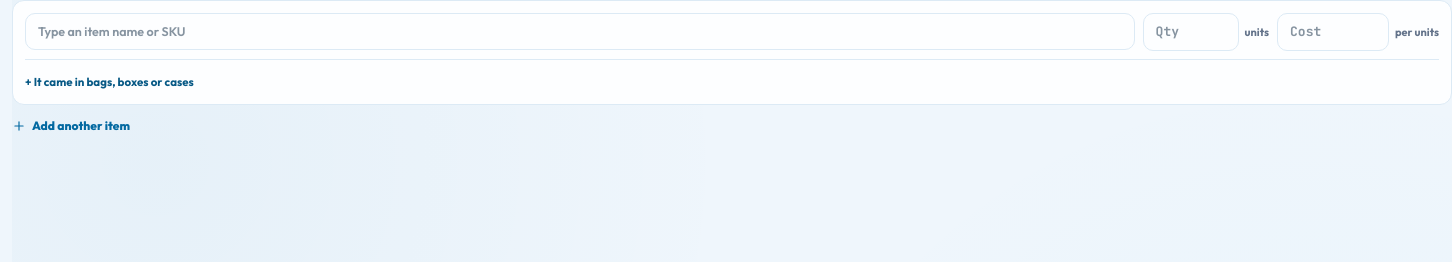
the rows themselves › removes a row once there is more than one
What coordinates should you click on to do the following:
click the button "Add another item"
I would click on:
 (71, 126)
Its box is [12,118,130,134].
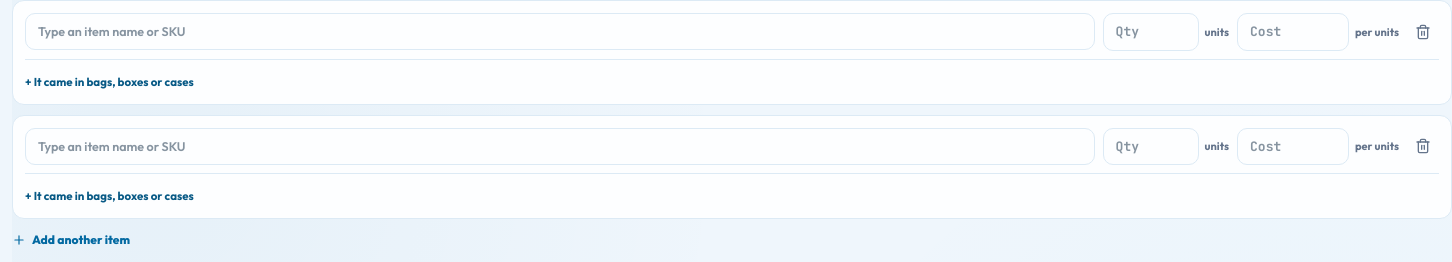
What coordinates should you click on to do the following:
click the 1st button named "Remove item"
I would click on:
 (1423, 32)
Its box is [1407,16,1439,48].
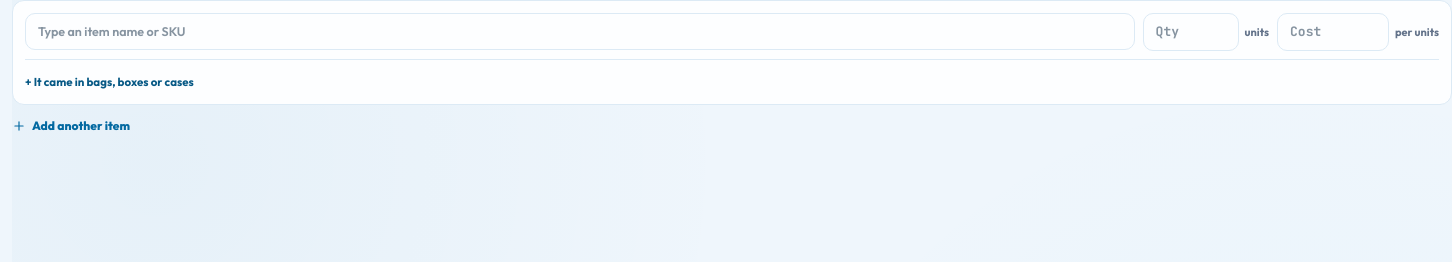
Result: the number of fields with placeholder "Type an item name or SKU" is 1 at [25,13,1135,50]
